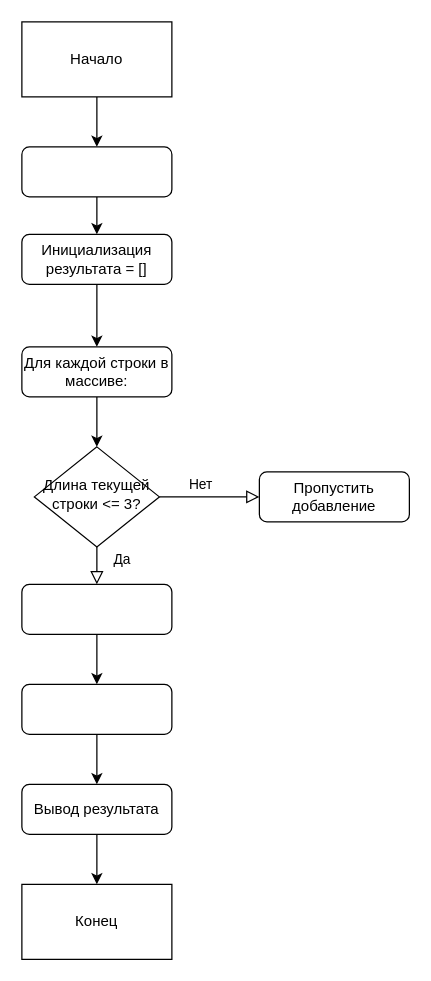
The diagram is 431 pixels wide and 981 high, and some of its shapes have lost their labels. The shapes that lost their labels are listed below. From the top down, each one's centre as x and y in pixels, then its label:
point (96, 171): Ввод массива
point (96, 608): Добавить в результат
point (96, 708): Конец цикла
